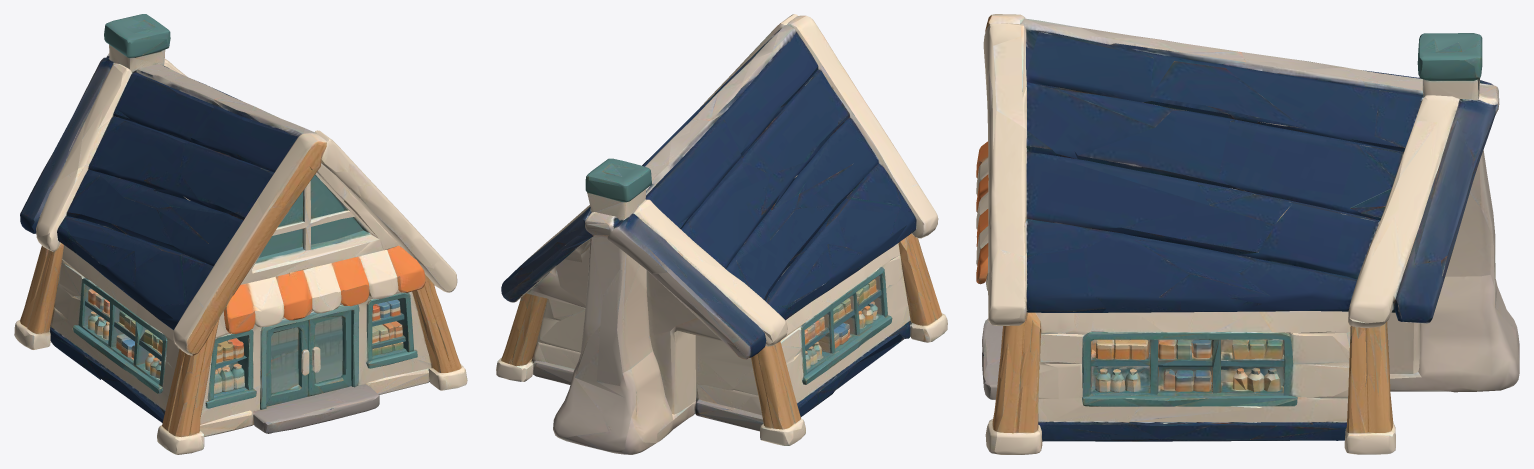
Rendered from furnitureShop.glb.
3 renders of one model, left to right at view 1: azimuth 30°, elevation 25°; view 2: azimuth 150°, elevation 25°; view 3: azimuth 270°, elevation 25°, orthographic. The views are drawn at different scales.
Parts seen in each view (by area): view 1: Mesh_0; view 2: Mesh_0; view 3: Mesh_0.
Part boxes in pixels (<box>): Mesh_0: <box>14,14,467,454</box>; Mesh_0: <box>496,14,947,454</box>; Mesh_0: <box>976,14,1519,454</box>.
Bounding box in the file's own units: 2.2 × 1.98 × 2.8.
1 material, 1 textured.
